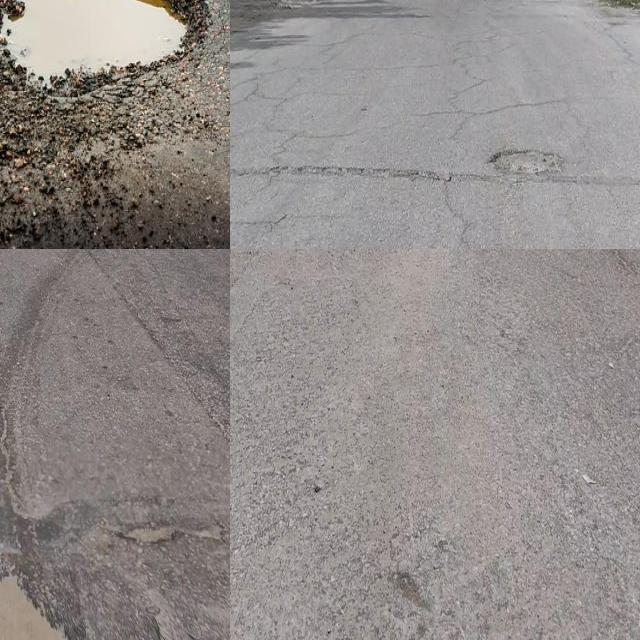Pothole: (0, 0, 190, 84), (230, 165, 483, 182), (487, 149, 564, 178)
